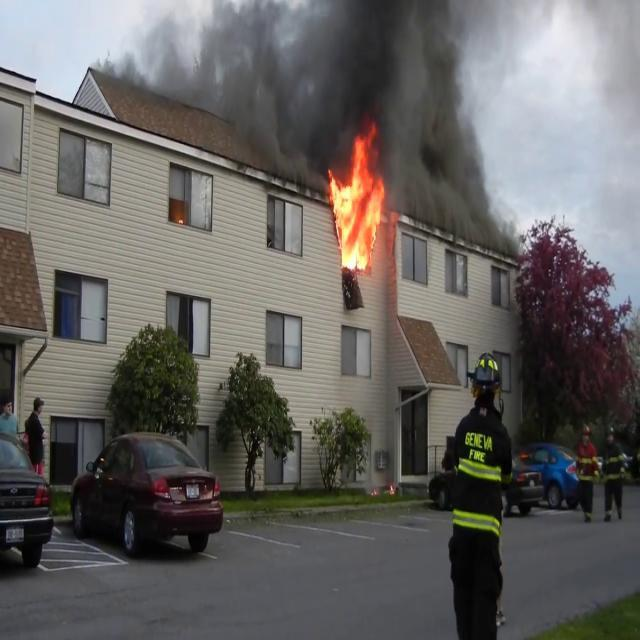Fire: (327, 132, 388, 274)
Smoke: (105, 1, 497, 190)
